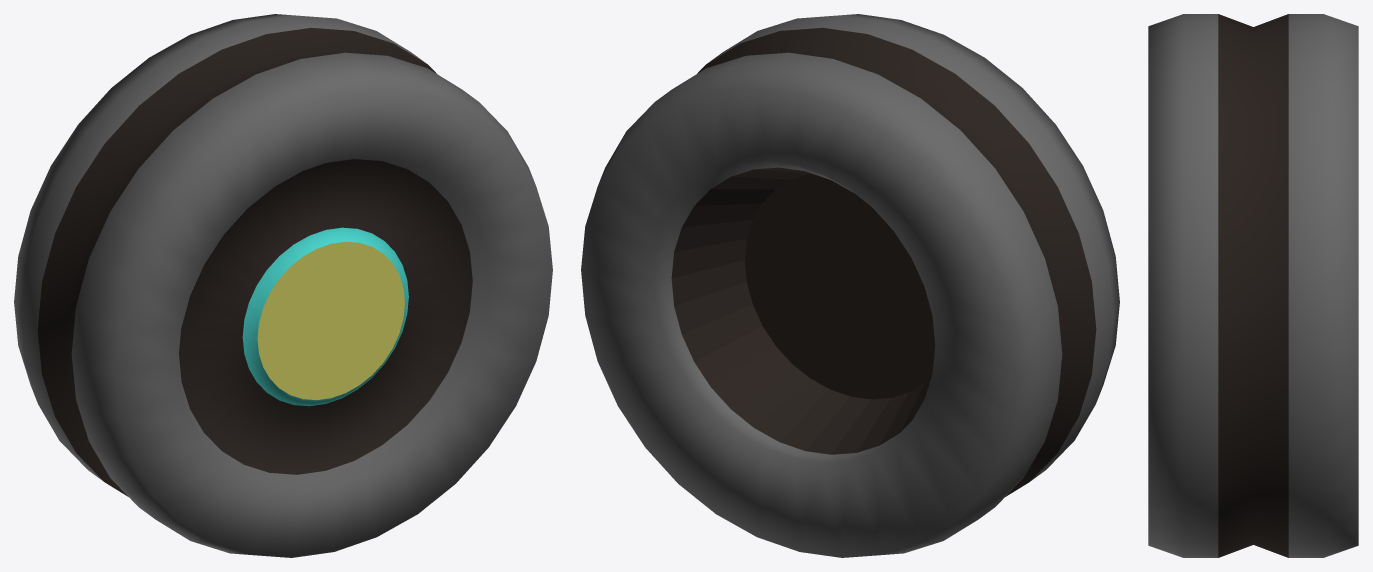
File: Wheel1-wheel.fbx
3 renders of one model, left to right at view 1: azimuth 30°, elevation 25°; view 2: azimuth 150°, elevation 25°; view 3: azimuth 270°, elevation 25°, orthographic. The views are drawn at different scales.
Parts seen in each view (by area): view 1: Cylinder; view 2: Cylinder; view 3: Cylinder.
Boxes of the visible parts, <box> form: Cylinder: <box>14,14,552,557</box>; Cylinder: <box>581,14,1119,557</box>; Cylinder: <box>1148,14,1358,557</box>.
Bounding box in the file's own units: 4.15 × 4.15 × 1.6.
